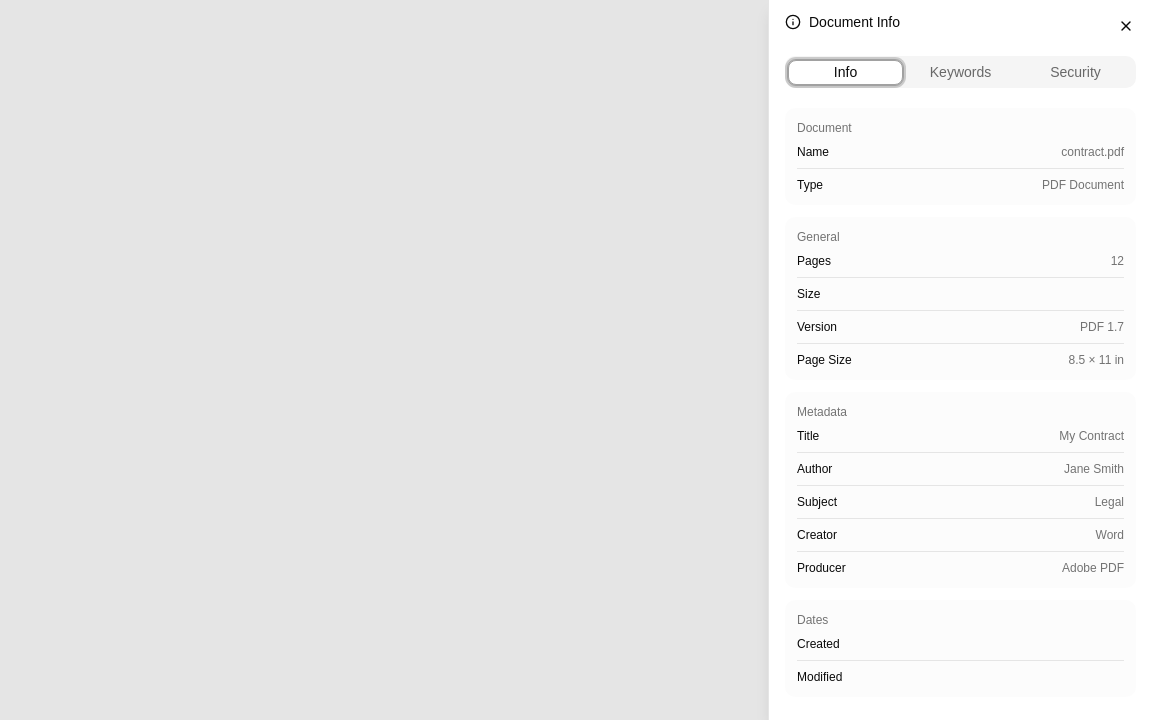
Test case: InfoPanel — context menu copy › shows Copy All Keywords when right-clicking the keywords area
Click the tab "Keywords" at (960, 72), box x1=903 y1=60 x2=1018 y2=84
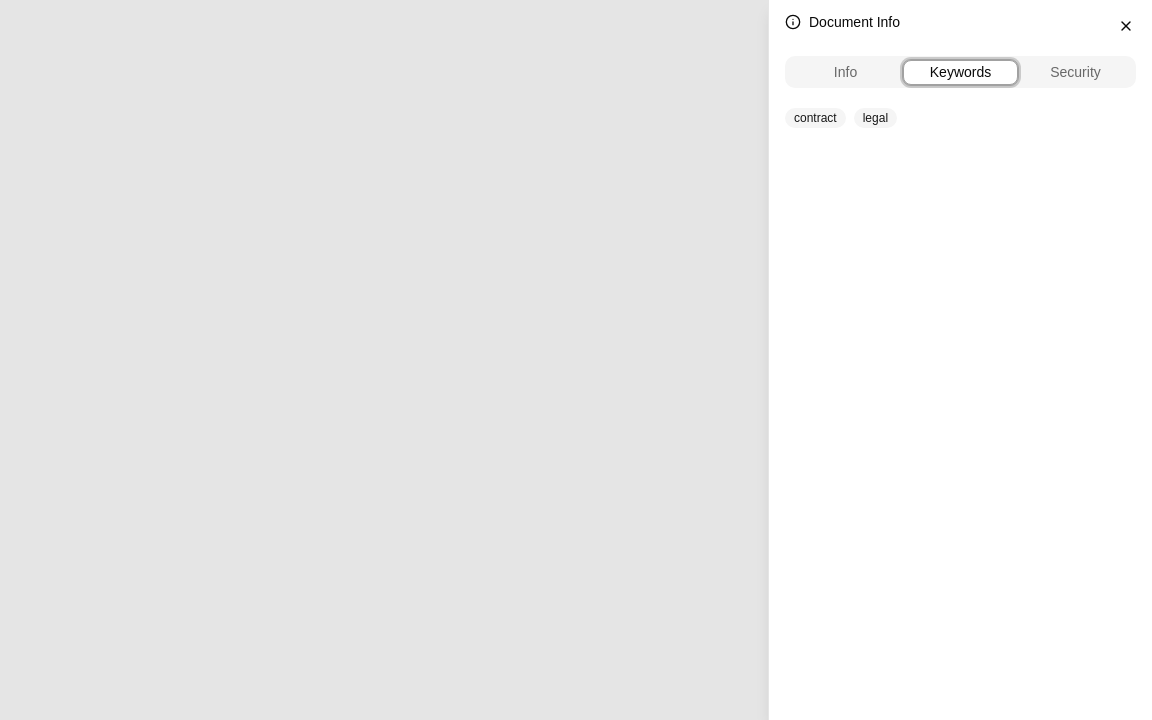
Right-click the element with test id "keywords-area" at (841, 118), box x1=785 y1=108 x2=897 y2=128
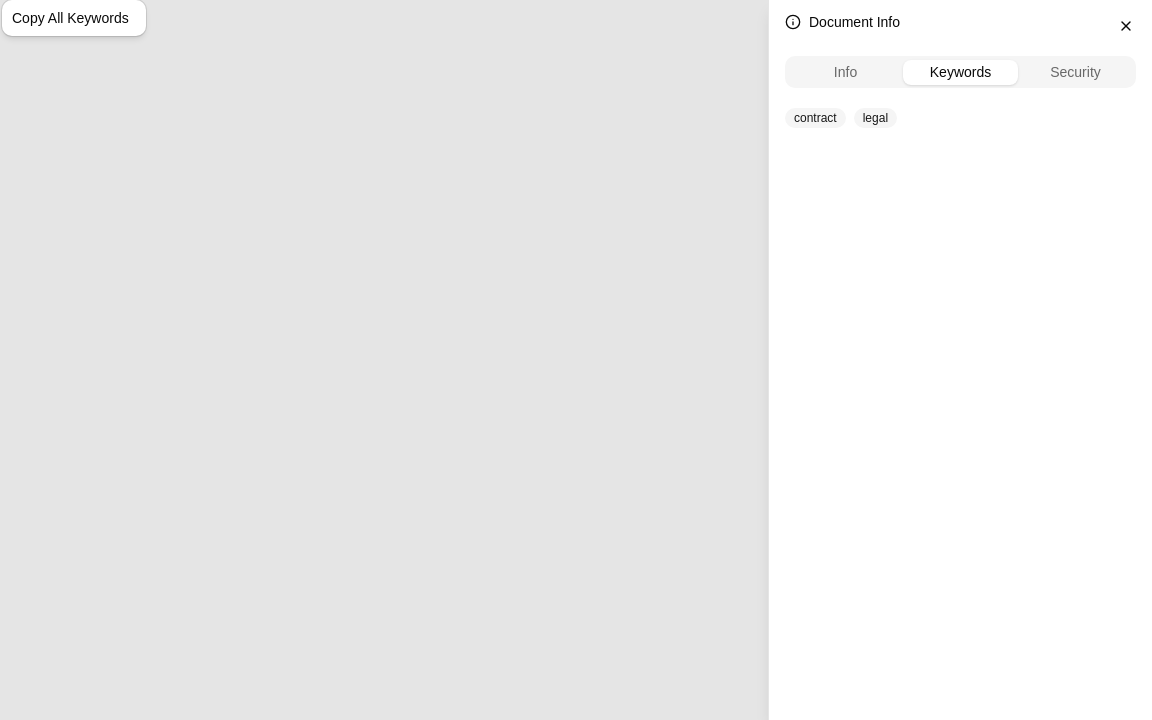
Expected: the menu item "Copy All Keywords" is shown, x1=12 y1=10 x2=129 y2=26
